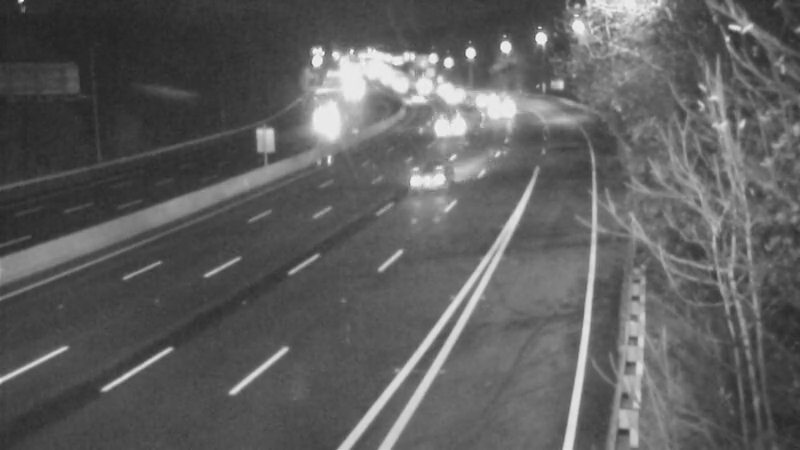vehicle: (401, 138, 481, 218), (432, 71, 482, 121), (388, 74, 438, 124), (457, 76, 507, 126), (474, 89, 524, 139), (422, 99, 472, 149), (293, 96, 343, 146)
